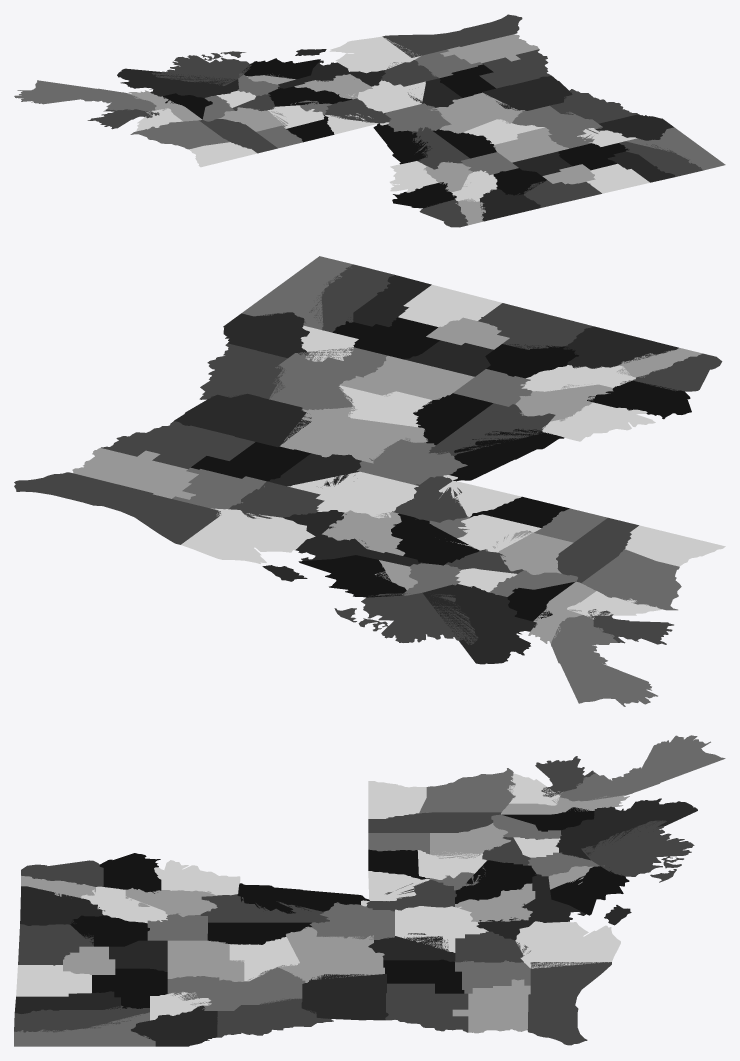
Rendered from Louisiana_Parishes_2D.fbx.
The picture shows the model from 3 angles, top to bottom: view 1: azimuth 30°, elevation 25°; view 2: azimuth 150°, elevation 25°; view 3: azimuth 270°, elevation 25°; orthographic projection. The views are drawn at different scales.
Parts seen in each view (by area): view 1: LA_Cameron_Parish_2D, LA_Plaquemines_Parish_2D, LA_Lafourche_Parish_2D, LA_Terrebonne_Parish_2D, LA_Rapides_Parish_2D, LA_Vermilion_Parish_2D, LA_Natchitoches_Parish_2D, LA_Vernon_Parish_2D, LA_Beauregard_Parish_2D, LA_St_Tammany_Parish_2D, LA_Calcasieu_Parish_2D, LA_St_Landry_Parish_2D (+51 smaller); view 2: LA_Cameron_Parish_2D, LA_Lafourche_Parish_2D, LA_Plaquemines_Parish_2D, LA_Natchitoches_Parish_2D, LA_Rapides_Parish_2D, LA_Vernon_Parish_2D, LA_Vermilion_Parish_2D, LA_Terrebonne_Parish_2D, LA_Beauregard_Parish_2D, LA_St_Tammany_Parish_2D, LA_Calcasieu_Parish_2D, LA_St_Landry_Parish_2D (+51 smaller); view 3: LA_Cameron_Parish_2D, LA_Plaquemines_Parish_2D, LA_Vermilion_Parish_2D, LA_Terrebonne_Parish_2D, LA_Rapides_Parish_2D, LA_Natchitoches_Parish_2D, LA_Vernon_Parish_2D, LA_Lafourche_Parish_2D, LA_Beauregard_Parish_2D, LA_St_Tammany_Parish_2D, LA_Calcasieu_Parish_2D, LA_Caddo_Parish_2D (+51 smaller).
Part boxes in pixels (box(x1,y1,x2,y2)): LA_Cameron_Parish_2D: box(382, 14, 522, 57); LA_Plaquemines_Parish_2D: box(14, 80, 156, 111); LA_Lafourche_Parish_2D: box(117, 68, 238, 97); LA_Terrebonne_Parish_2D: box(152, 51, 251, 85); LA_Rapides_Parish_2D: box(430, 92, 524, 133); LA_Vermilion_Parish_2D: box(329, 36, 421, 73); LA_Natchitoches_Parish_2D: box(512, 105, 602, 148); LA_Vernon_Parish_2D: box(482, 75, 572, 110); LA_Beauregard_Parish_2D: box(479, 49, 550, 88); LA_St_Tammany_Parish_2D: box(130, 120, 229, 149); LA_Calcasieu_Parish_2D: box(440, 34, 538, 63); LA_St_Landry_Parish_2D: box(348, 80, 425, 113); LA_Cameron_Parish_2D: box(14, 472, 220, 544); LA_Lafourche_Parish_2D: box(422, 584, 537, 664); LA_Plaquemines_Parish_2D: box(551, 615, 657, 706); LA_Natchitoches_Parish_2D: box(269, 347, 387, 410); LA_Rapides_Parish_2D: box(279, 407, 427, 463); LA_Vernon_Parish_2D: box(174, 393, 311, 447); LA_Vermilion_Parish_2D: box(181, 508, 315, 563); LA_Terrebonne_Parish_2D: box(334, 593, 478, 644); LA_Beauregard_Parish_2D: box(101, 421, 254, 468); LA_St_Tammany_Parish_2D: box(581, 549, 681, 610); LA_Calcasieu_Parish_2D: box(72, 448, 198, 499); LA_St_Landry_Parish_2D: box(287, 471, 418, 518); LA_Cameron_Parish_2D: box(527, 962, 611, 1045); LA_Plaquemines_Parish_2D: box(559, 735, 725, 801); LA_Vermilion_Parish_2D: box(515, 921, 620, 968); LA_Terrebonne_Parish_2D: box(581, 820, 694, 882); LA_Rapides_Parish_2D: box(278, 926, 384, 982); LA_Natchitoches_Parish_2D: box(167, 967, 305, 1010); LA_Vernon_Parish_2D: box(301, 974, 388, 1020); LA_Lafourche_Parish_2D: box(555, 798, 697, 860); LA_Beauregard_Parish_2D: box(385, 983, 468, 1032); LA_St_Tammany_Parish_2D: box(419, 768, 515, 813); LA_Calcasieu_Parish_2D: box(452, 979, 530, 1033); LA_Caddo_Parish_2D: box(14, 1012, 155, 1046).
Size of the model in its own units: 736 by 0 by 712.
